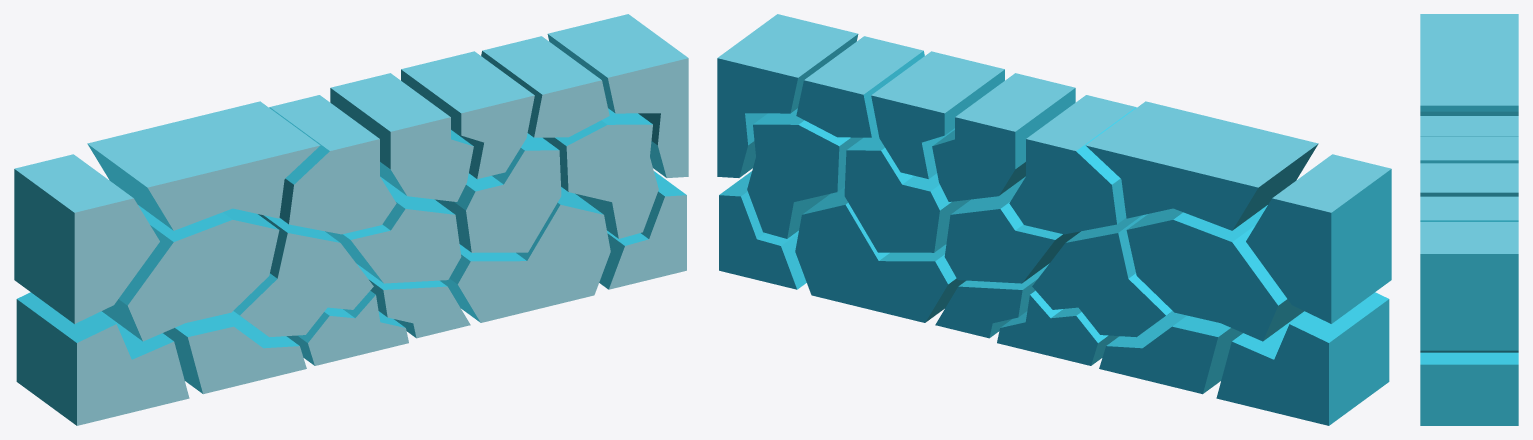
File: D_FBX_07_DesT_Wall_Set.fbx
The picture shows the model from 3 angles, left to right: view 1: azimuth 30°, elevation 25°; view 2: azimuth 150°, elevation 25°; view 3: azimuth 270°, elevation 25°; orthographic projection. The views are drawn at different scales.
Parts seen in each view (by area): view 1: D_FBX_07_DesT_Wall_01, D_FBX_07_DesT_Wall_00, D_FBX_07_DesT_Wall_12, D_FBX_07_DesT_Wall_07, D_FBX_07_DesT_Wall_16, D_FBX_07_DesT_Wall_06, D_FBX_07_DesT_Wall_02, D_FBX_07_DesT_Wall_03, D_FBX_07_DesT_Wall_08, D_FBX_07_DesT_Wall_04, D_FBX_07_DesT_Wall_11, D_FBX_07_DesT_Wall_10 (+6 smaller); view 2: D_FBX_07_DesT_Wall_01, D_FBX_07_DesT_Wall_00, D_FBX_07_DesT_Wall_12, D_FBX_07_DesT_Wall_07, D_FBX_07_DesT_Wall_16, D_FBX_07_DesT_Wall_06, D_FBX_07_DesT_Wall_02, D_FBX_07_DesT_Wall_03, D_FBX_07_DesT_Wall_08, D_FBX_07_DesT_Wall_04, D_FBX_07_DesT_Wall_11, D_FBX_07_DesT_Wall_10 (+6 smaller); view 3: D_FBX_07_DesT_Wall_06, D_FBX_07_DesT_Wall_01, D_FBX_07_DesT_Wall_17, D_FBX_07_DesT_Wall_04, D_FBX_07_DesT_Wall_03, D_FBX_07_DesT_Wall_05, D_FBX_07_DesT_Wall_00, D_FBX_07_DesT_Wall_02, D_FBX_07_DesT_Wall_11.
Boxes of the visible parts, left/top/right/bottom form: D_FBX_07_DesT_Wall_01: left=87, top=101, right=320, bottom=230; D_FBX_07_DesT_Wall_00: left=14, top=154, right=159, bottom=323; D_FBX_07_DesT_Wall_12: left=16, top=292, right=189, bottom=425; D_FBX_07_DesT_Wall_07: left=102, top=205, right=279, bottom=341; D_FBX_07_DesT_Wall_16: left=440, top=187, right=610, bottom=322; D_FBX_07_DesT_Wall_06: left=547, top=14, right=688, bottom=177; D_FBX_07_DesT_Wall_02: left=269, top=95, right=396, bottom=234; D_FBX_07_DesT_Wall_03: left=330, top=73, right=473, bottom=201; D_FBX_07_DesT_Wall_08: left=233, top=214, right=373, bottom=337; D_FBX_07_DesT_Wall_04: left=401, top=51, right=534, bottom=179; D_FBX_07_DesT_Wall_11: left=543, top=108, right=658, bottom=238; D_FBX_07_DesT_Wall_10: left=435, top=133, right=561, bottom=252; D_FBX_07_DesT_Wall_01: left=1085, top=101, right=1318, bottom=230; D_FBX_07_DesT_Wall_00: left=1246, top=154, right=1391, bottom=323; D_FBX_07_DesT_Wall_12: left=1216, top=292, right=1389, bottom=425; D_FBX_07_DesT_Wall_07: left=1126, top=205, right=1303, bottom=341; D_FBX_07_DesT_Wall_16: left=795, top=187, right=965, bottom=322; D_FBX_07_DesT_Wall_06: left=717, top=14, right=858, bottom=177; D_FBX_07_DesT_Wall_02: left=1009, top=95, right=1136, bottom=234; D_FBX_07_DesT_Wall_03: left=932, top=73, right=1075, bottom=201; D_FBX_07_DesT_Wall_08: left=1032, top=214, right=1172, bottom=337; D_FBX_07_DesT_Wall_04: left=871, top=51, right=1004, bottom=179; D_FBX_07_DesT_Wall_11: left=747, top=108, right=862, bottom=238; D_FBX_07_DesT_Wall_10: left=844, top=133, right=970, bottom=252; D_FBX_07_DesT_Wall_06: left=1420, top=222, right=1518, bottom=350; D_FBX_07_DesT_Wall_01: left=1420, top=37, right=1518, bottom=115; D_FBX_07_DesT_Wall_17: left=1420, top=352, right=1518, bottom=425; D_FBX_07_DesT_Wall_04: left=1420, top=163, right=1518, bottom=196; D_FBX_07_DesT_Wall_03: left=1420, top=136, right=1518, bottom=163; D_FBX_07_DesT_Wall_05: left=1420, top=196, right=1518, bottom=221; D_FBX_07_DesT_Wall_00: left=1420, top=14, right=1518, bottom=36; D_FBX_07_DesT_Wall_02: left=1420, top=116, right=1518, bottom=136; D_FBX_07_DesT_Wall_11: left=1420, top=350, right=1518, bottom=352.
Bounding box in the file's own units: 662 × 228 × 113.
